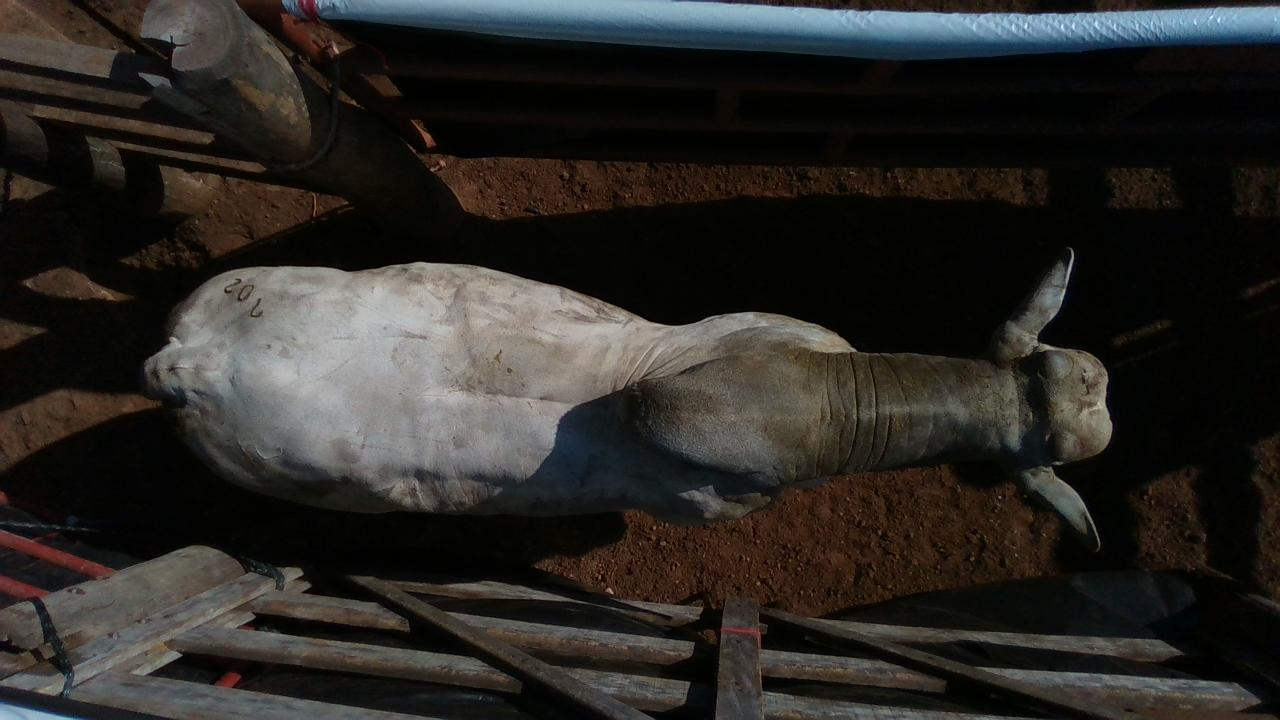cattle: (137, 244, 1114, 553)
